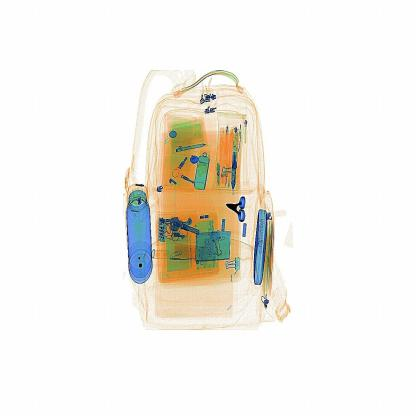gun: (224, 195, 249, 222)
